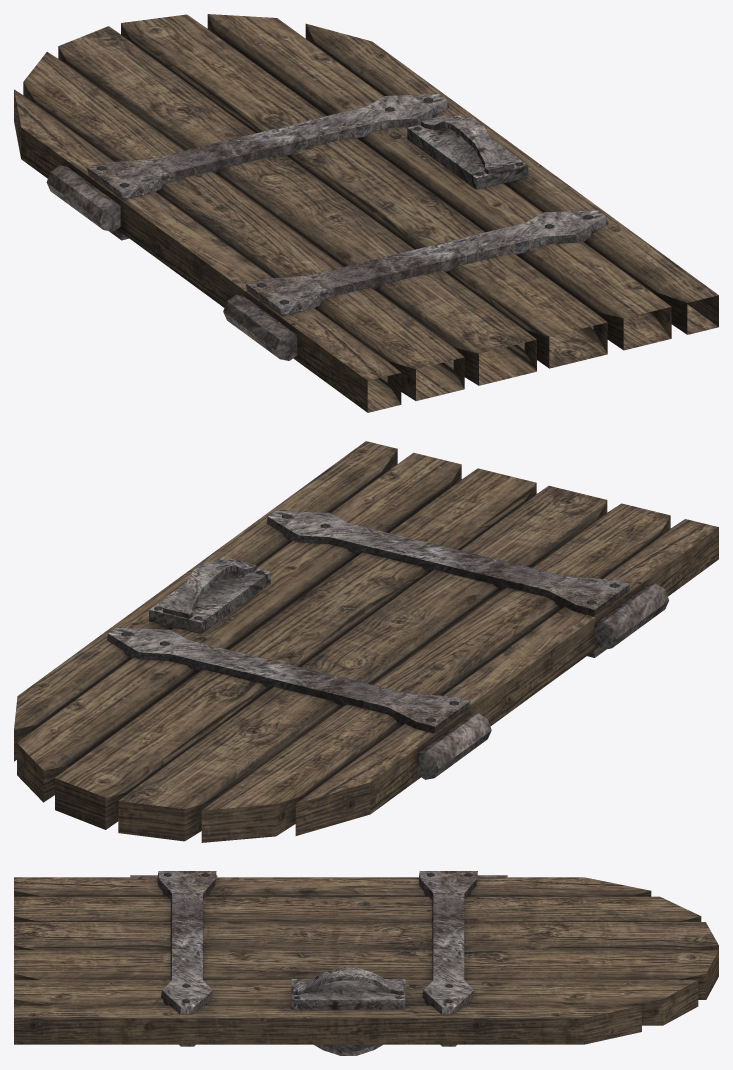
The model's file is Door_b.fbx.
3 renders of one model, top to bottom at view 1: azimuth 30°, elevation 25°; view 2: azimuth 150°, elevation 25°; view 3: azimuth 270°, elevation 25°, orthographic. The views are drawn at different scales.
Visible parts, largest first — view 1: Door_b; view 2: Door_b; view 3: Door_b.
Part boxes in pixels (x1,y1,x2,y2): Door_b: [14, 14, 718, 412]; Door_b: [14, 441, 718, 842]; Door_b: [14, 871, 718, 1055].
Size of the model in its own units: 122 by 30.23 by 243.
